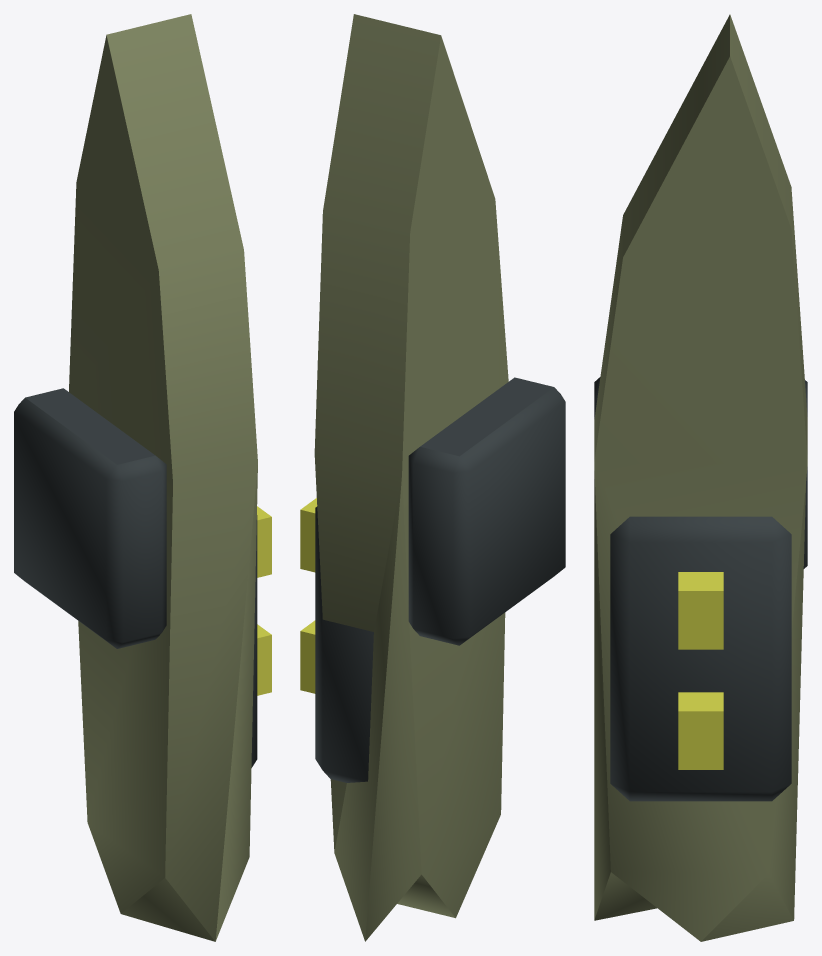
Rendered from person_tool_insanity.obj.
3 views of the same model, side by side, from view 1: azimuth 30°, elevation 25°; view 2: azimuth 150°, elevation 25°; view 3: azimuth 270°, elevation 25° (orthographic). The views are drawn at different scales.
Parts seen in each view (by area): view 1: lance_body, body_interface_unchanged, part_072_utility_dark, part_128_utility_yellow, part_116_utility_yellow; view 2: lance_body, body_interface_unchanged, part_072_utility_dark, part_128_utility_yellow, part_116_utility_yellow; view 3: lance_body, part_072_utility_dark, part_116_utility_yellow, part_128_utility_yellow, body_interface_unchanged.
Part boxes in pixels (box(x1,y1,x2,y2)): lance_body: box(69, 14, 257, 941); body_interface_unchanged: box(14, 388, 166, 648); part_072_utility_dark: box(251, 515, 257, 767); part_128_utility_yellow: box(257, 506, 271, 577); part_116_utility_yellow: box(257, 624, 271, 695); lance_body: box(314, 14, 508, 941); body_interface_unchanged: box(408, 377, 565, 645); part_072_utility_dark: box(315, 506, 373, 782); part_128_utility_yellow: box(300, 498, 317, 572); part_116_utility_yellow: box(300, 620, 315, 693); lance_body: box(594, 14, 807, 941); part_072_utility_dark: box(610, 516, 791, 801); part_116_utility_yellow: box(678, 692, 723, 769); part_128_utility_yellow: box(678, 572, 723, 649); body_interface_unchanged: box(594, 377, 807, 568).
Bounding box in the file's own units: 0.073 × 0.302 × 0.066.
